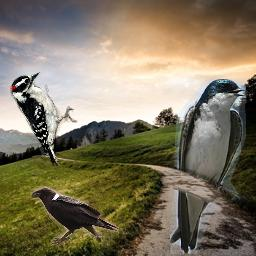Crow: (30, 186, 119, 248)
Swallow: (170, 79, 246, 254)
Woodpecker: (10, 72, 78, 166)
